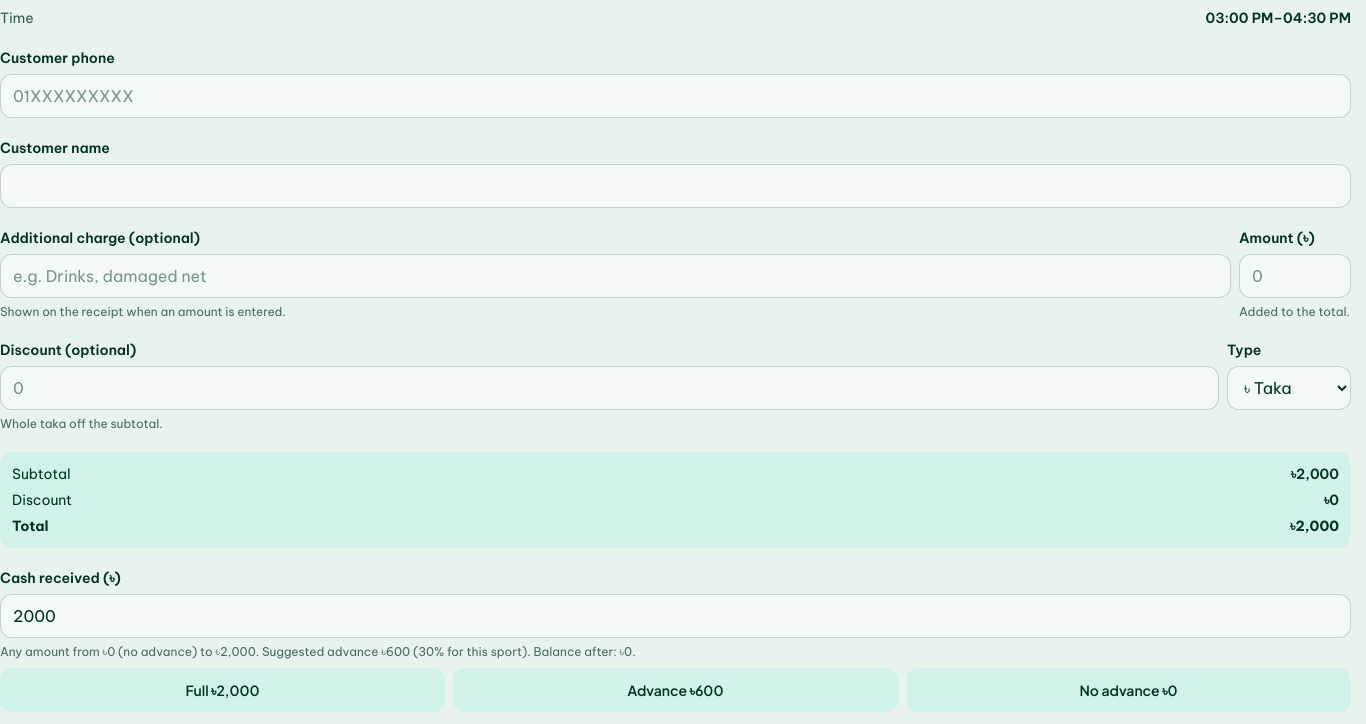
Test: WalkInForm discount › cash above the discounted total is refused
Check: the button "Full ৳2,000" is shown, box [0,668,445,712]
Type "01733334444" into the field labelled "Customer phone". click: coordinates (676, 96)
box: [0,74,1351,118]
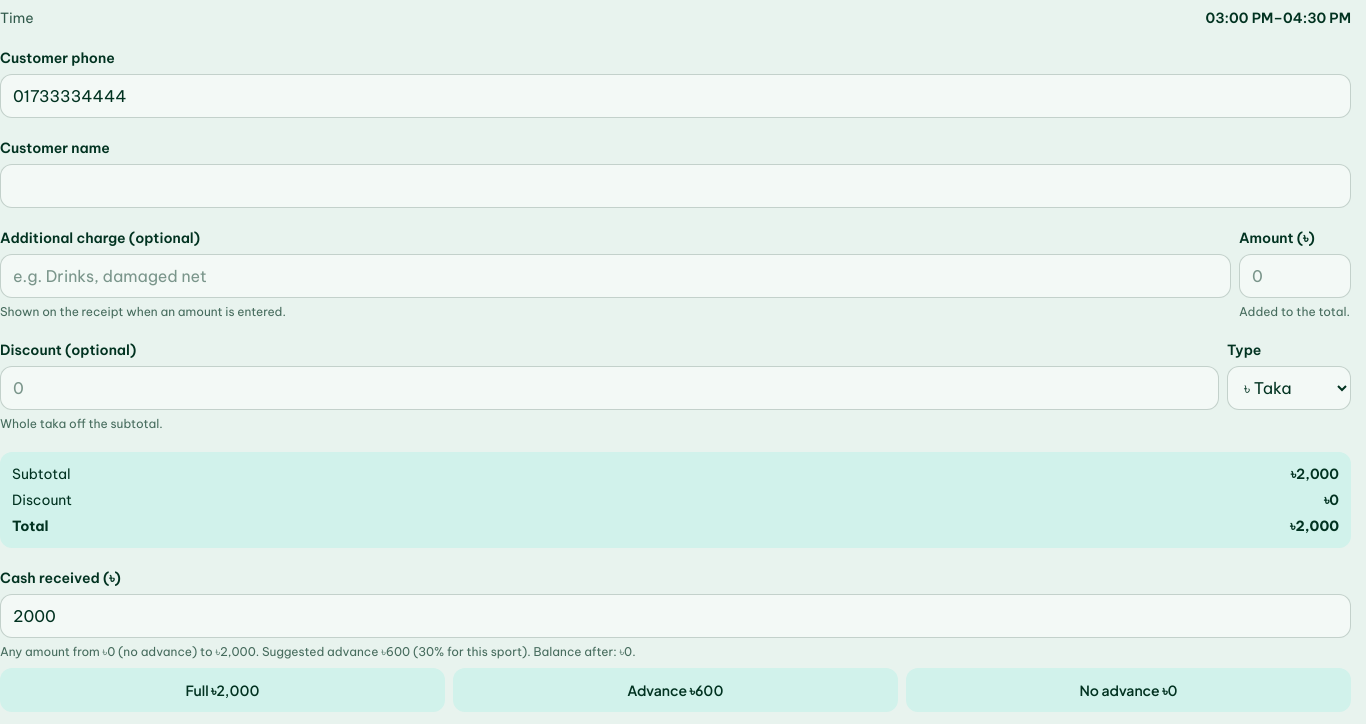
Type "Karim" into the field labelled "Customer name". click: coordinates (676, 186)
box: [0,164,1351,208]
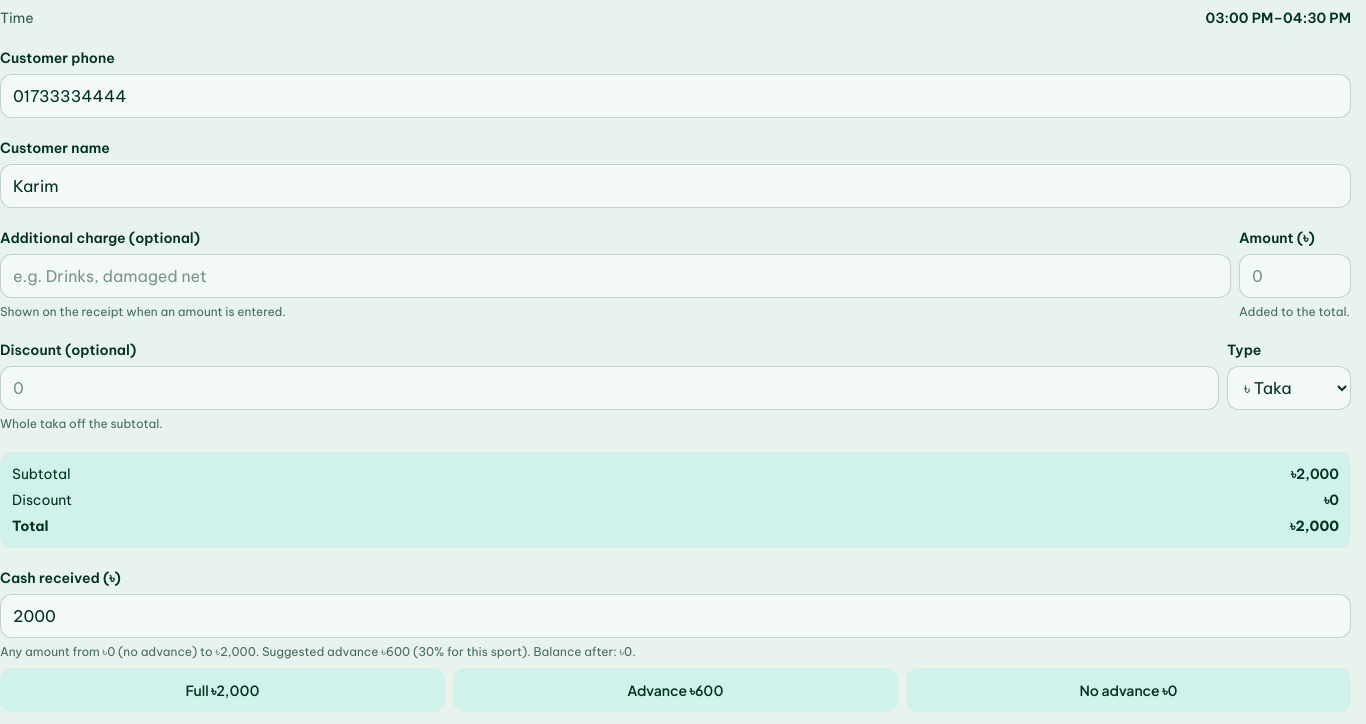
Type "500" into the number field labelled "Discount (optional)". click: coordinates (610, 388)
box: [0,366,1219,410]
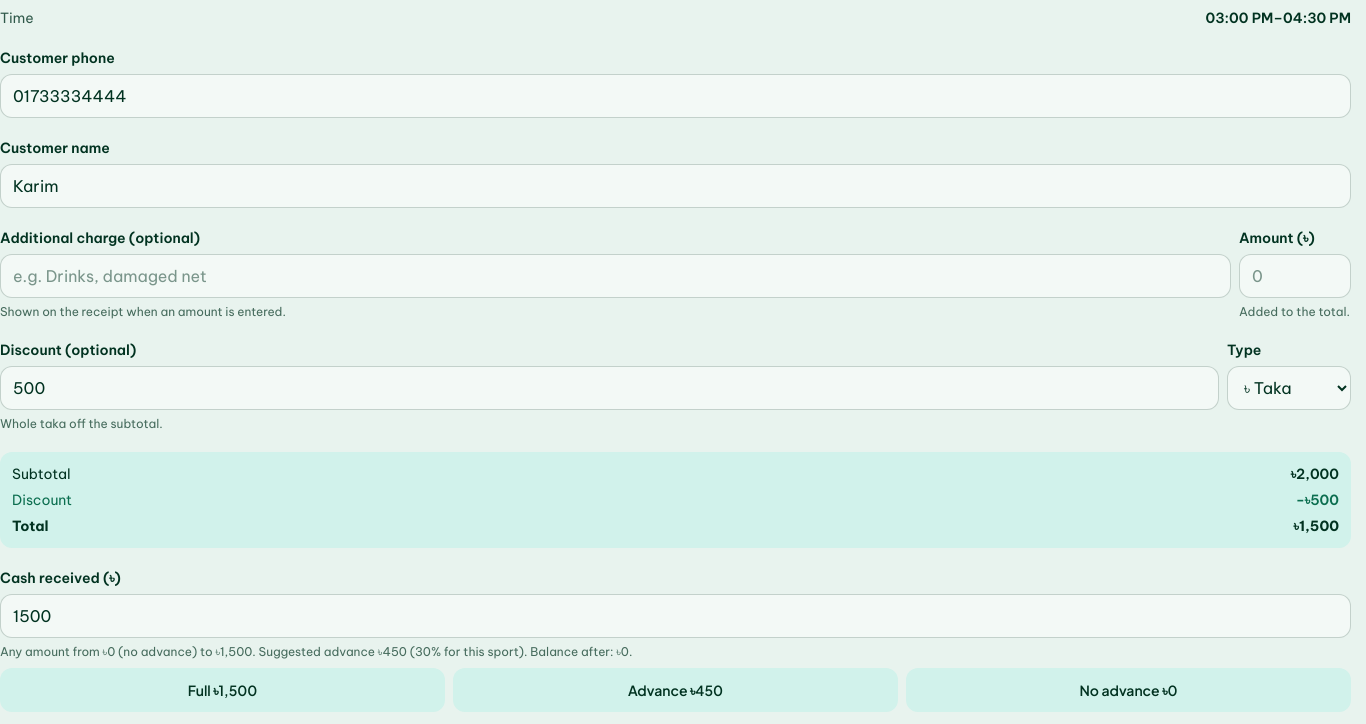
Replace the text in the number field labelled "Cash received (৳)" with "2000". click: coordinates (676, 616)
box: [0,594,1351,638]
(page scrolled)
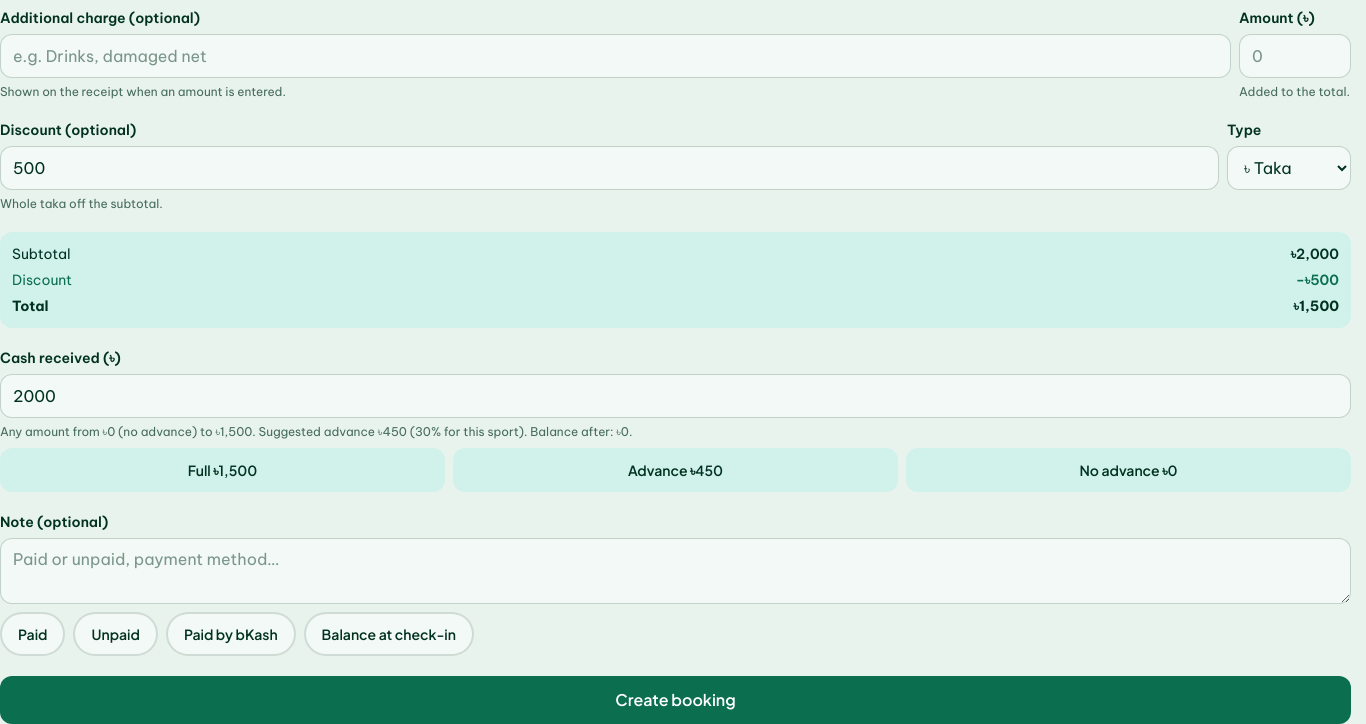
Click the button "Create booking". click: coordinates (676, 700)
box: [0,676,1351,723]
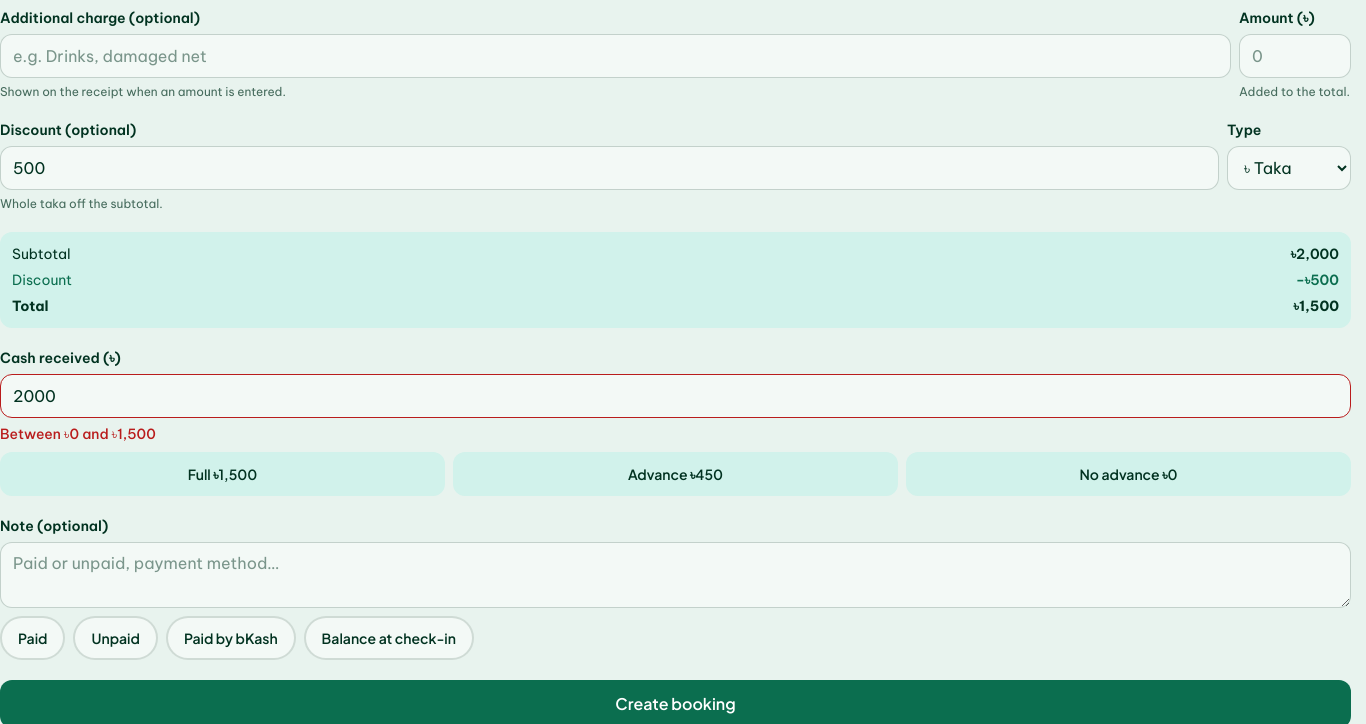
Check: the text "Between ৳0 and ৳1,500" is shown, box [0,425,156,443]
